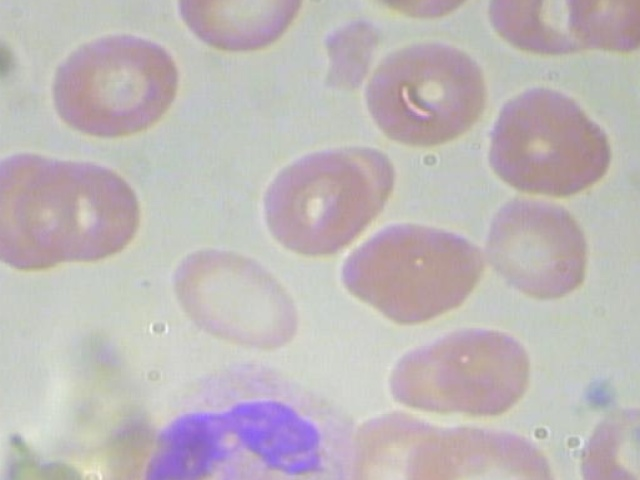RBC: (478, 182, 632, 313), (26, 25, 190, 148), (475, 77, 621, 207), (254, 141, 406, 264), (340, 33, 488, 157), (334, 218, 501, 327), (159, 241, 307, 360), (383, 325, 542, 426), (16, 159, 146, 267), (0, 138, 78, 275), (163, 0, 321, 58)
WBC: (102, 357, 392, 480)
